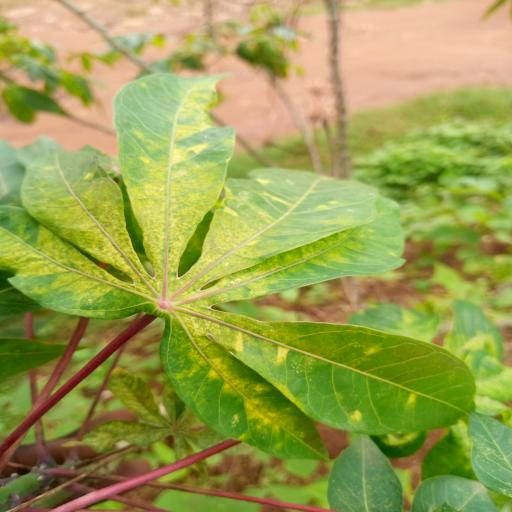Cassava_Mosaic: (10, 64, 484, 466)
